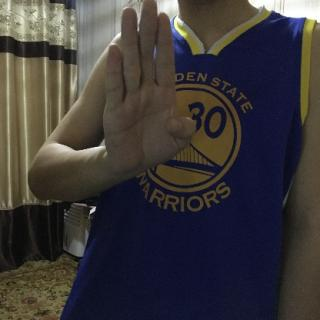KAAF: (101, 0, 199, 184)
